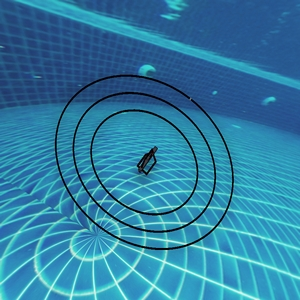circle: (43, 65, 253, 273)
